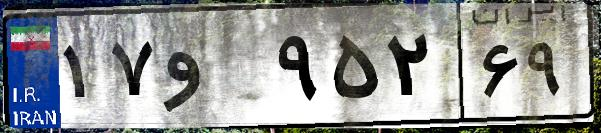1: (57, 26, 110, 100)
2: (385, 28, 445, 110)
5: (330, 28, 385, 110)
6: (475, 38, 525, 113)
7: (110, 28, 158, 98)
9: (270, 28, 330, 110), (525, 38, 570, 115)
و: (158, 20, 270, 120)
